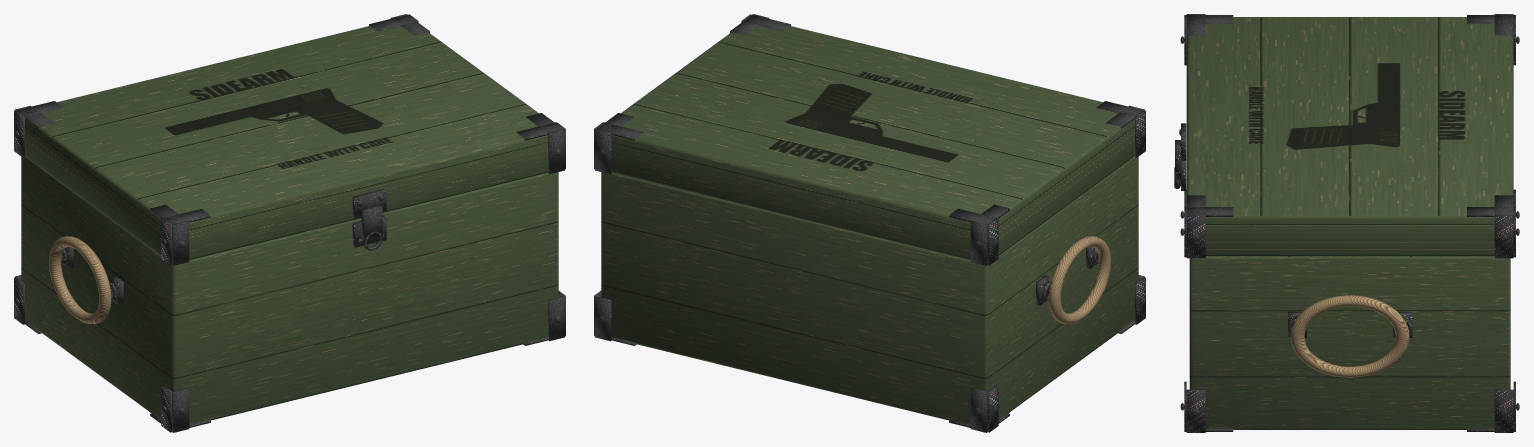
The model's file is pistol_crate.fbx.
The picture shows the model from 3 angles, left to right: view 1: azimuth 30°, elevation 25°; view 2: azimuth 150°, elevation 25°; view 3: azimuth 270°, elevation 25°; orthographic projection. The views are drawn at different scales.
Parts seen in each view (by area): view 1: Pistol_Crate; view 2: Pistol_Crate; view 3: Pistol_Crate.
Boxes of the visible parts, x1=… form: Pistol_Crate: x1=14, y1=14, x2=565, y2=432; Pistol_Crate: x1=594, y1=14, x2=1145, y2=432; Pistol_Crate: x1=1174, y1=14, x2=1519, y2=432.
Bounding box in the file's own units: 1.78 × 0.822 × 1.18.
Materials: 1 (1 with a texture image).
